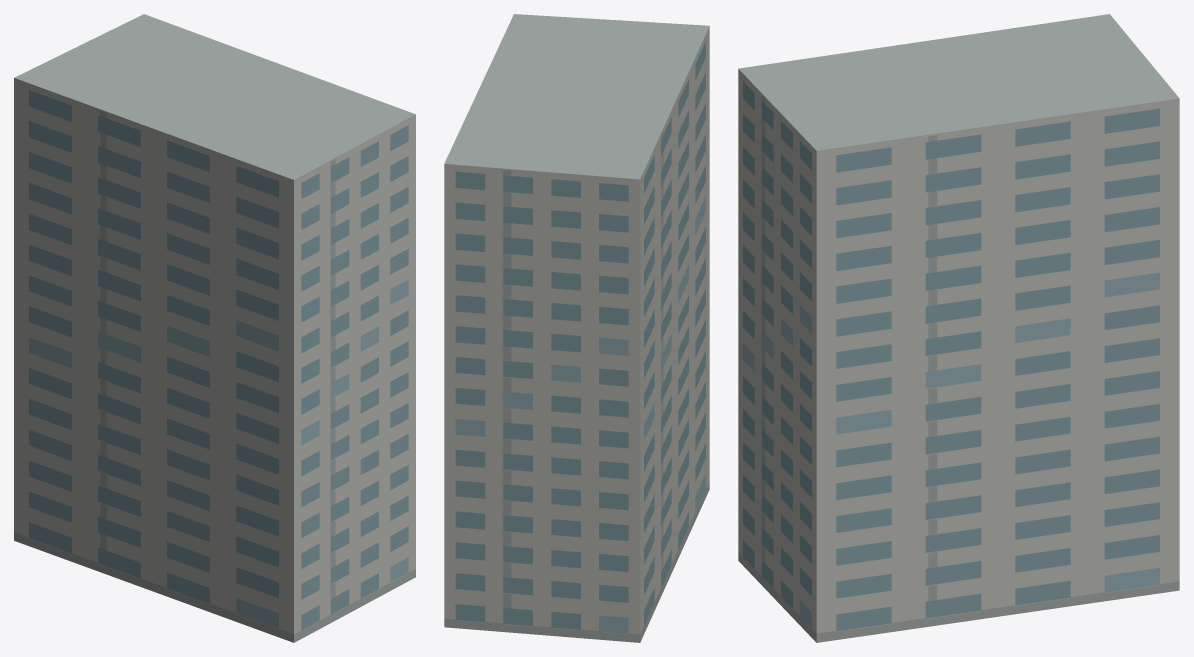
The model's file is survey-upis-32990327.glb.
3 views of the same model, side by side, from view 1: azimuth 30°, elevation 25°; view 2: azimuth 150°, elevation 25°; view 3: azimuth 270°, elevation 25° (orthographic). The views are drawn at different scales.
Visible parts, largest first — view 1: survey-upis-32990327.tmp; view 2: survey-upis-32990327.tmp; view 3: survey-upis-32990327.tmp.
Boxes of the visible parts, left/top/right/bottom form: survey-upis-32990327.tmp: left=14, top=14, right=415, bottom=642; survey-upis-32990327.tmp: left=444, top=14, right=709, bottom=642; survey-upis-32990327.tmp: left=738, top=14, right=1179, bottom=642.
Bounding box in the file's own units: 41.54 × 69.6 × 56.59.
